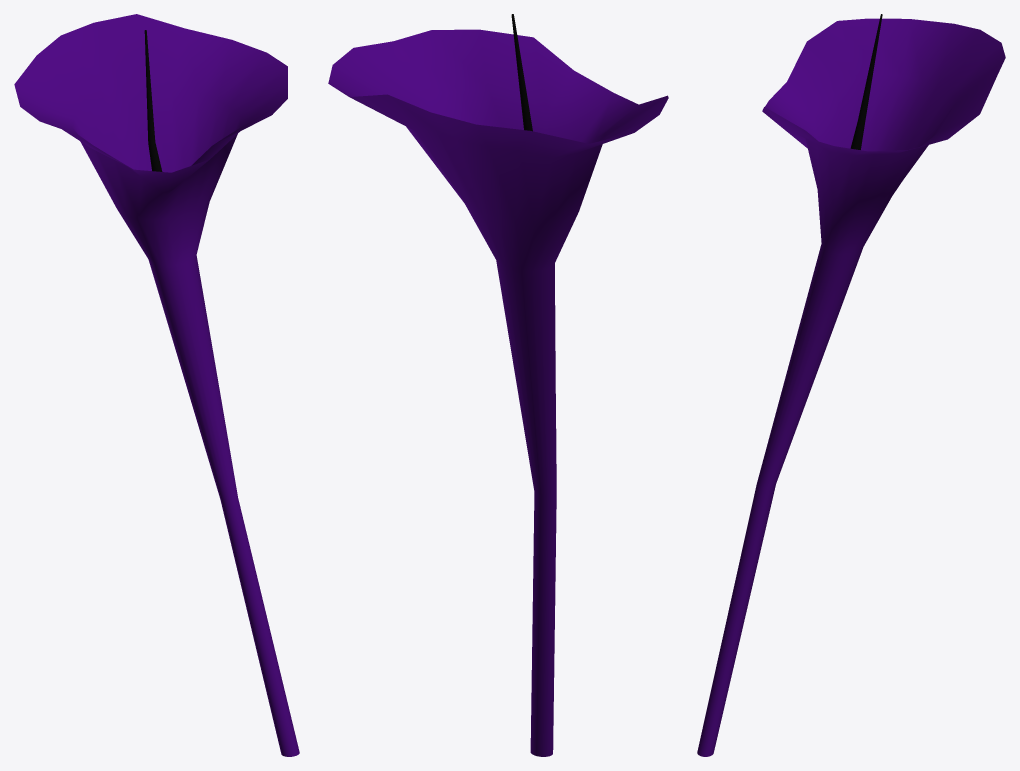
The model's file is Magic flower.fbx.
3 renders of one model, left to right at view 1: azimuth 30°, elevation 25°; view 2: azimuth 150°, elevation 25°; view 3: azimuth 270°, elevation 25°, orthographic. The views are drawn at different scales.
Parts seen in each view (by area): view 1: pCylinder3; view 2: pCylinder3; view 3: pCylinder3.
Boxes of the visible parts, x1,y1,x2,y2 form: pCylinder3: [14, 14, 299, 756]; pCylinder3: [328, 14, 668, 756]; pCylinder3: [697, 14, 1005, 756].
Size of the model in its own units: 1.6 by 4.16 by 1.65.
